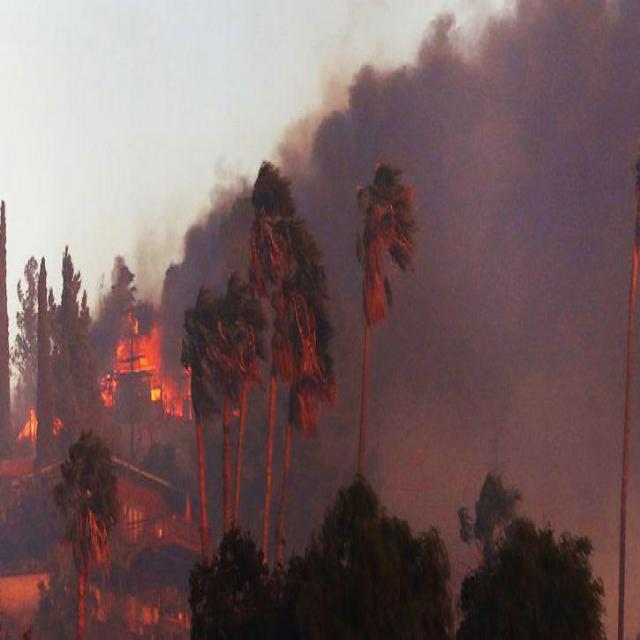Fire: (100, 311, 196, 418), (16, 408, 66, 443)
